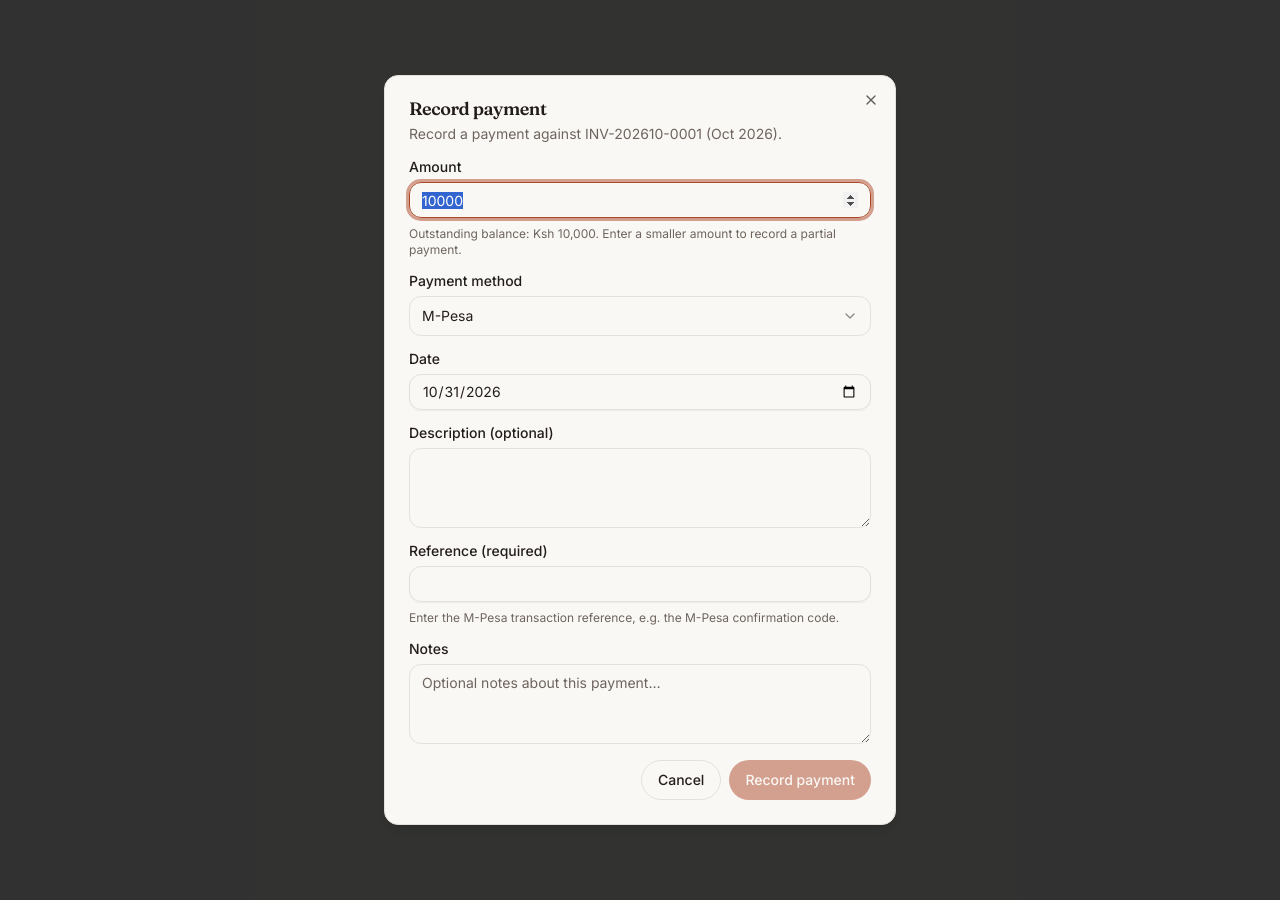
Test: RecordPaymentDialog › disables submit when the amount exceeds the outstanding balance
Note: Cash avoids the reference requirement so only the amount guard applies.
Click the dropdown at (448, 316), box [409,296,871,336]
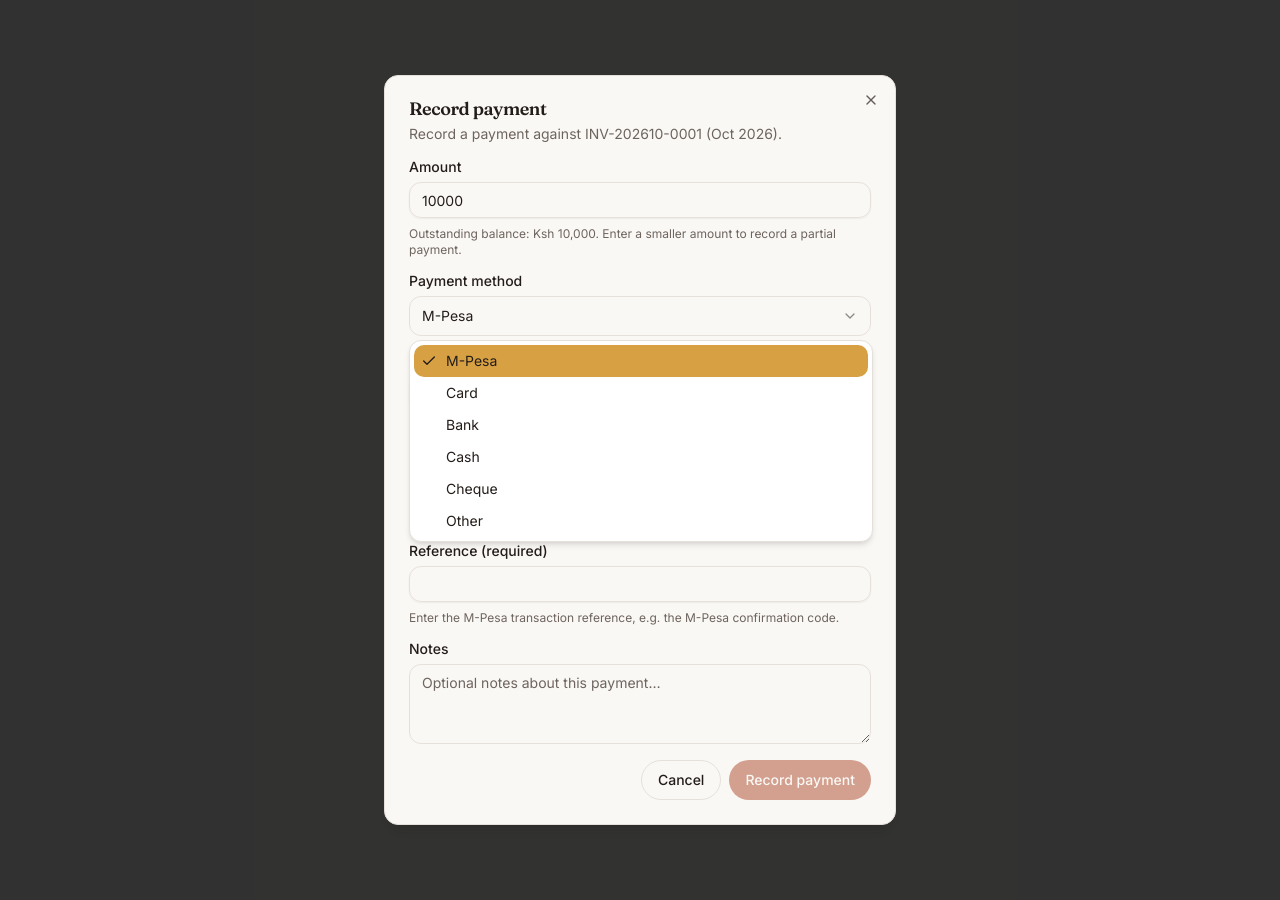
Click the option "Cash" at (463, 456), box [446,448,480,465]
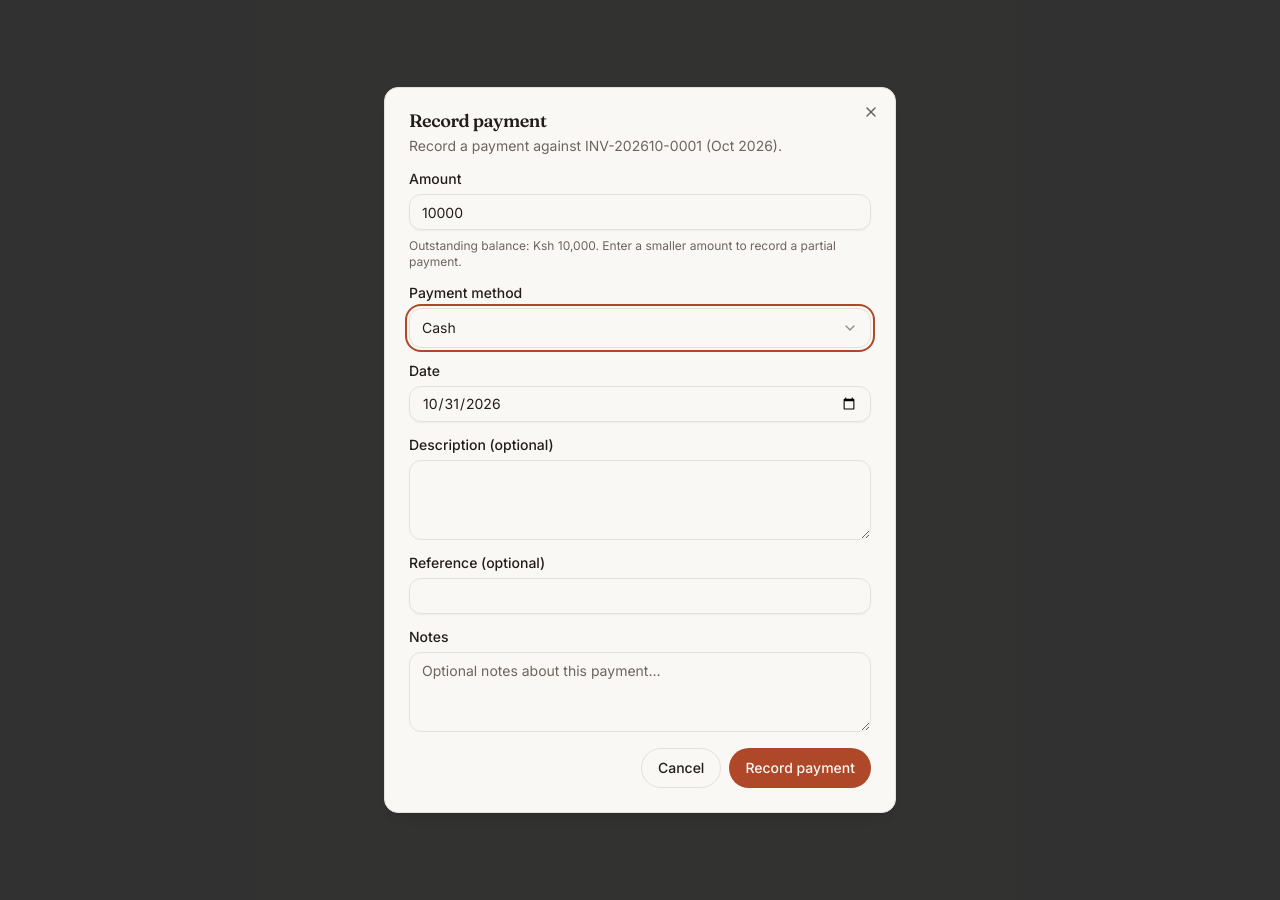
Replace the text in the number field labelled "Amount" with "20000" at (640, 212), box [409,194,871,230]
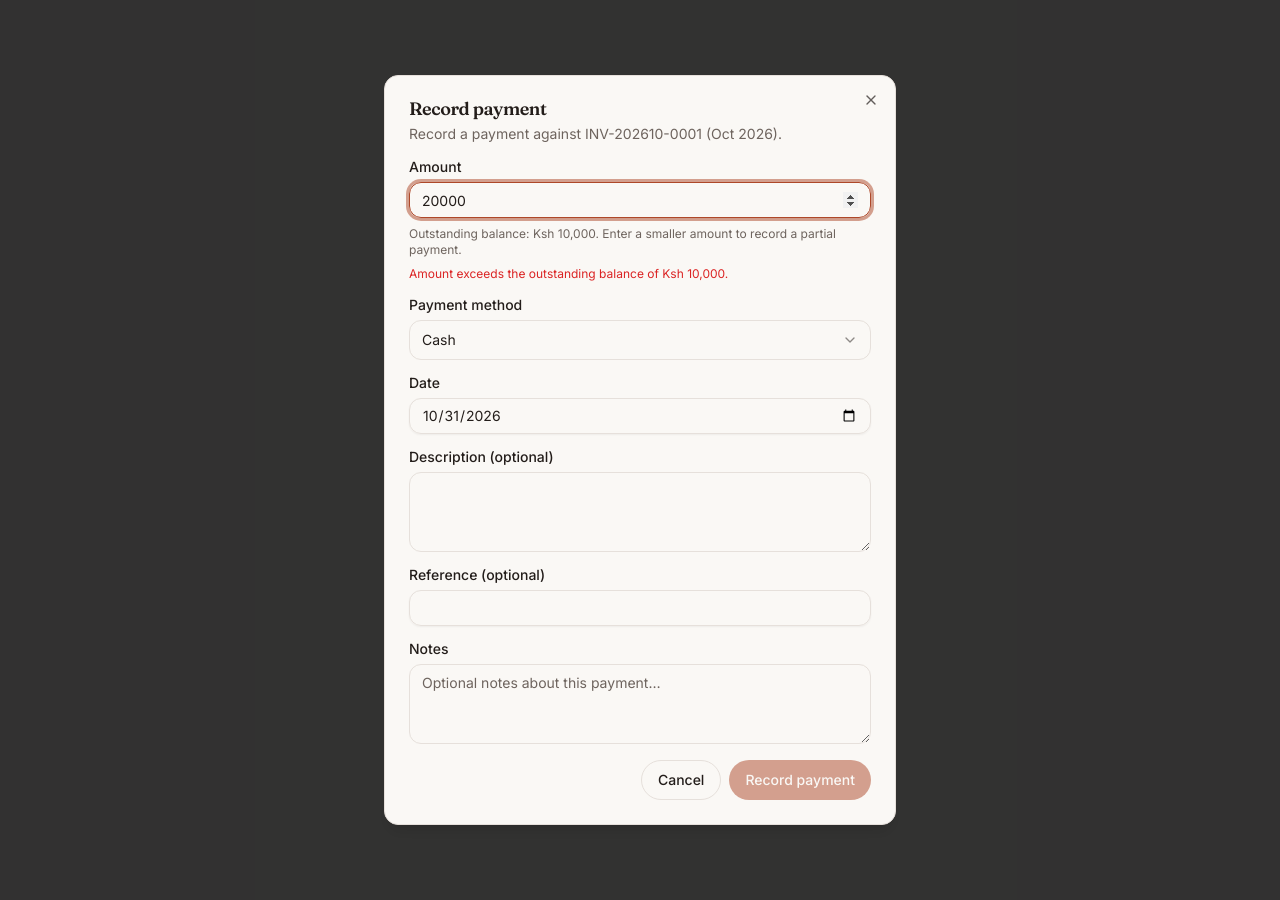
Now the button "Record payment" is disabled, box [729,760,871,800]
Clear the number field labelled "Amount" at (640, 200), box [409,182,871,218]
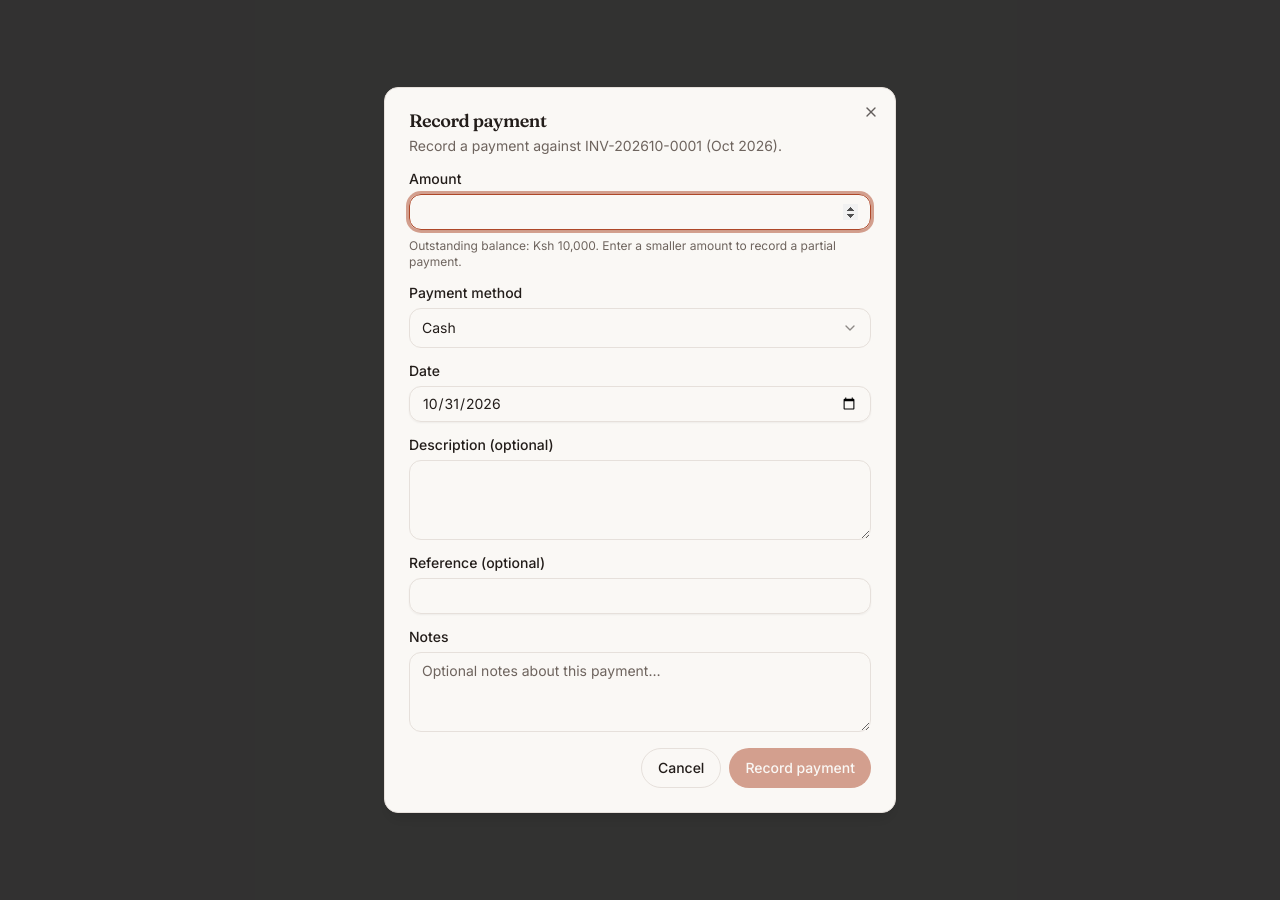
Type "10000" into the number field labelled "Amount" at (640, 212), box [409,194,871,230]
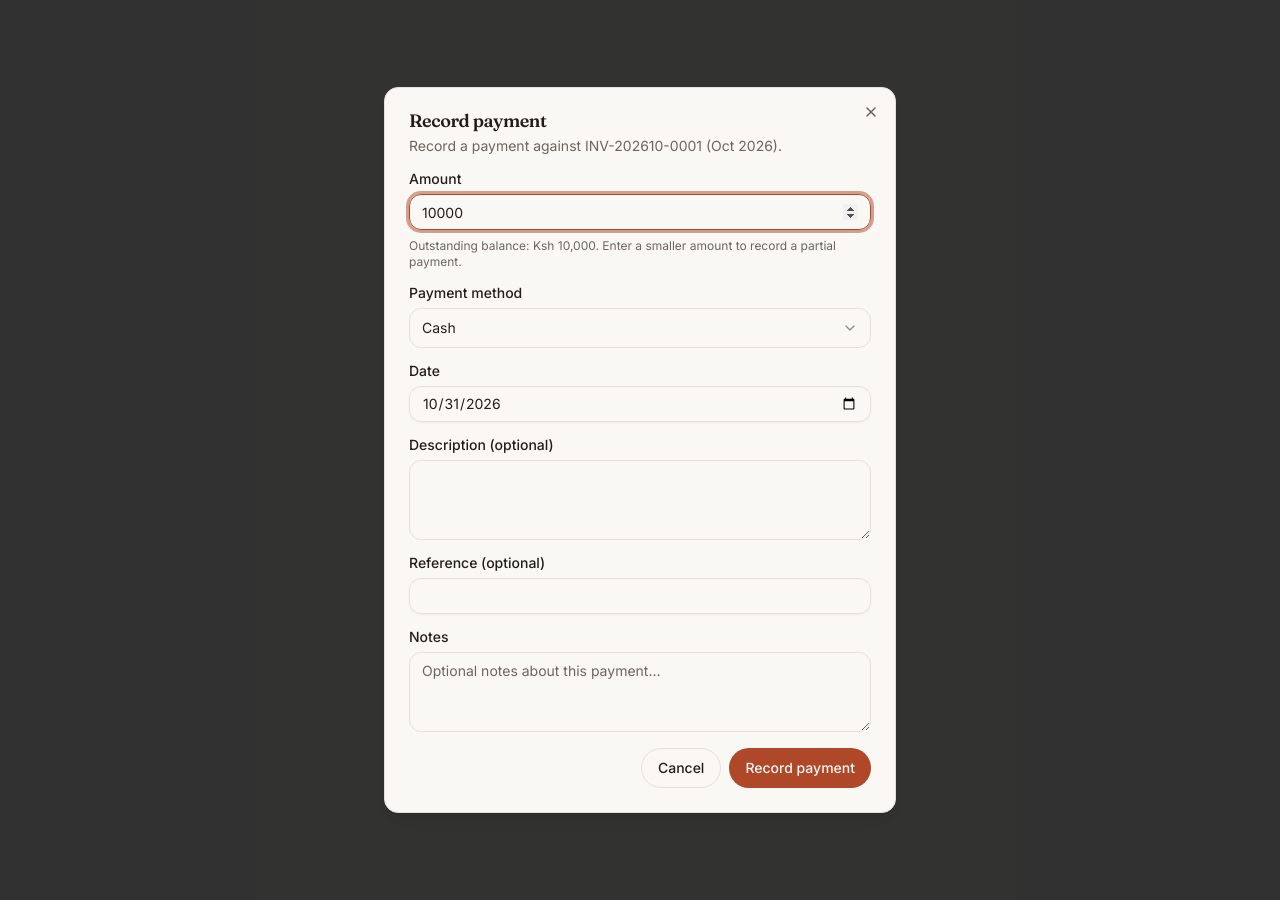
Now the button "Record payment" is enabled, box [729,748,871,788]
